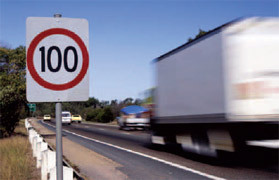Speed_limit_100km: (27, 28, 90, 90)
